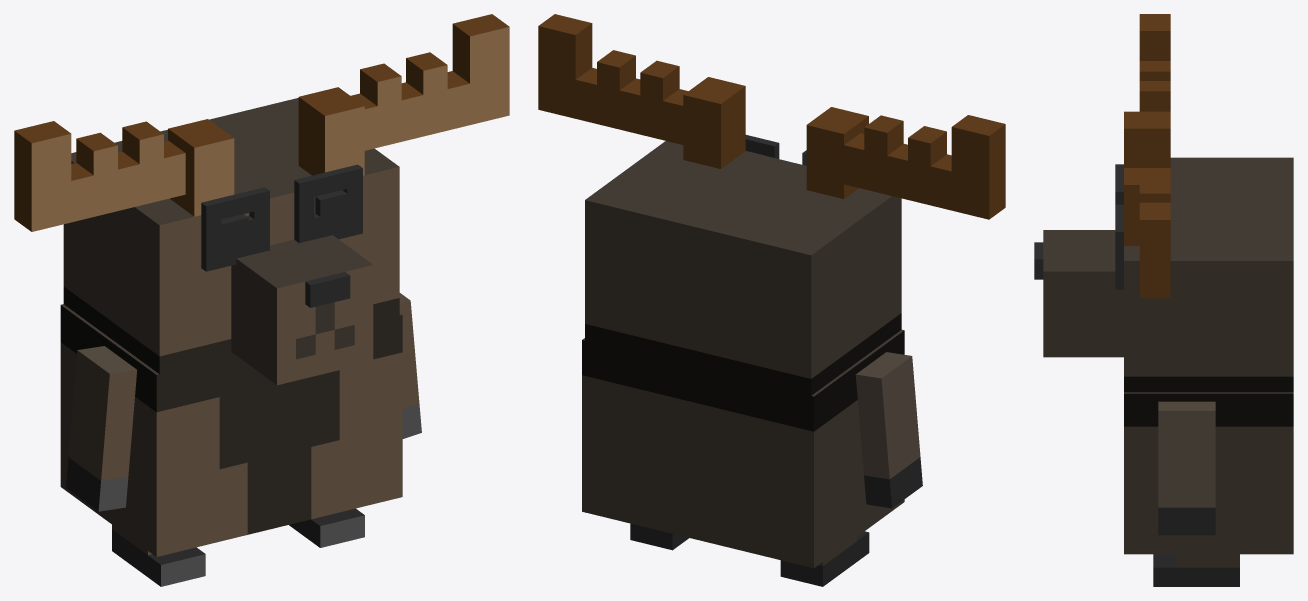
The picture shows the model from 3 angles, left to right: view 1: azimuth 30°, elevation 25°; view 2: azimuth 150°, elevation 25°; view 3: azimuth 270°, elevation 25°; orthographic projection. The views are drawn at different scales.
Visible parts, largest first — view 1: Ch_27_Head, Ch_27, Ch_27_Hand_L, Ch_27_Eye_03_L, Ch_27_Eye_03_R, Ch_27_Leg_L, Ch_27_Eye_02, Ch_27_Hand_R, Ch_27_Leg_R, Ch_27_Eye_01; view 2: Ch_27_Head, Ch_27, Ch_27_Hand_L, Ch_27_Leg_L, Ch_27_Leg_R; view 3: Ch_27_Head, Ch_27, Ch_27_Hand_R, Ch_27_Leg_R, Ch_27_Eye_03_R, Ch_27_Eye_03_L.
Part boxes in pixels (<box>): Ch_27_Head: <box>14,14,509,385</box>; Ch_27: <box>60,304,402,556</box>; Ch_27_Hand_L: <box>66,346,136,511</box>; Ch_27_Eye_03_L: <box>201,187,269,271</box>; Ch_27_Eye_03_R: <box>294,164,362,243</box>; Ch_27_Leg_L: <box>112,525,205,586</box>; Ch_27_Eye_02: <box>201,207,362,261</box>; Ch_27_Hand_R: <box>399,293,421,438</box>; Ch_27_Leg_R: <box>289,508,364,547</box>; Ch_27_Eye_01: <box>219,190,348,262</box>; Ch_27_Head: <box>538,14,1005,395</box>; Ch_27: <box>582,329,904,568</box>; Ch_27_Hand_L: <box>855,352,922,508</box>; Ch_27_Leg_L: <box>780,531,869,586</box>; Ch_27_Leg_R: <box>630,523,688,550</box>; Ch_27_Head: <box>1034,14,1293,392</box>; Ch_27: <box>1124,392,1293,554</box>; Ch_27_Hand_R: <box>1158,401,1215,535</box>; Ch_27_Leg_R: <box>1153,554,1239,586</box>; Ch_27_Eye_03_R: <box>1115,204,1123,289</box>; Ch_27_Eye_03_L: <box>1115,164,1123,204</box>.
Bounding box in the file's own units: 12.54 × 12.11 × 6.67.
